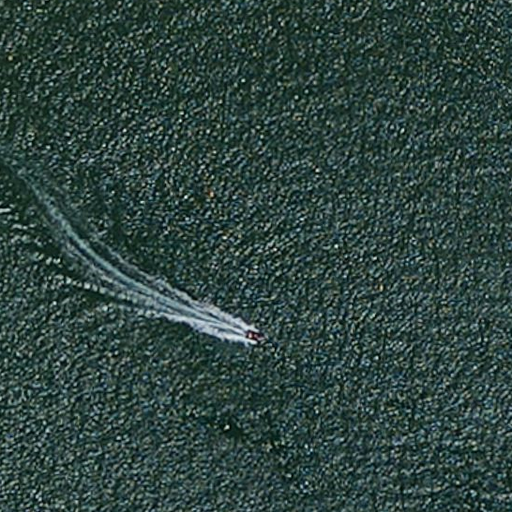ship: (238, 322, 269, 347)
